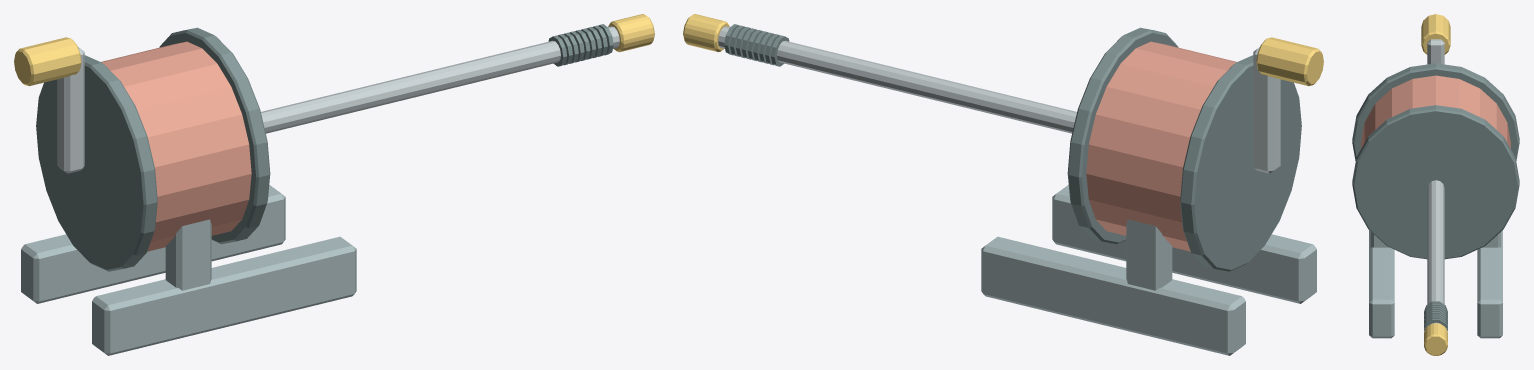
File: Tools-DrainAuger.fbx
3 renders of one model, left to right at view 1: azimuth 30°, elevation 25°; view 2: azimuth 150°, elevation 25°; view 3: azimuth 270°, elevation 25°, orthographic. The views are drawn at different scales.
Parts seen in each view (by area): view 1: Cable Drum, Spool Cap, Stand Runner, Stand Runner.001, Cable, Spool Cap.001, Crank Arm, Stand Upright, Crank Grip, Coil Rib Mesh, Auger Tip; view 2: Cable Drum, Spool Cap, Stand Runner.001, Stand Runner, Cable, Spool Cap.001, Crank Arm, Stand Upright.001, Crank Grip, Coil Rib Mesh, Auger Tip; view 3: Spool Cap.001, Cable Drum, Spool Cap, Stand Runner, Stand Runner.001, Cable, Crank Grip, Auger Tip, Coil Rib Mesh, Crank Arm, Stand Upright, Stand Upright.001.
Part boxes in pixels (bbox=[...]): Cable Drum: bbox=[101, 41, 251, 251]; Spool Cap: bbox=[36, 55, 157, 271]; Stand Runner: bbox=[92, 236, 356, 355]; Stand Runner.001: bbox=[21, 185, 285, 303]; Cable: bbox=[261, 26, 619, 133]; Spool Cap.001: bbox=[159, 27, 270, 244]; Crank Arm: bbox=[57, 47, 84, 173]; Stand Upright: bbox=[165, 219, 211, 290]; Crank Grip: bbox=[14, 37, 81, 86]; Coil Rib Mesh: bbox=[548, 24, 613, 66]; Auger Tip: bbox=[608, 14, 654, 52]; Cable Drum: bbox=[1086, 41, 1236, 251]; Spool Cap: bbox=[1180, 55, 1301, 271]; Stand Runner.001: bbox=[981, 236, 1245, 355]; Stand Runner: bbox=[1052, 185, 1316, 303]; Cable: bbox=[718, 26, 1076, 133]; Spool Cap.001: bbox=[1067, 27, 1178, 244]; Crank Arm: bbox=[1253, 47, 1280, 173]; Stand Upright.001: bbox=[1126, 219, 1172, 290]; Crank Grip: bbox=[1256, 37, 1323, 86]; Coil Rib Mesh: bbox=[724, 24, 789, 66]; Auger Tip: bbox=[683, 14, 729, 52]; Spool Cap.001: bbox=[1352, 105, 1519, 259]; Cable Drum: bbox=[1361, 75, 1510, 148]; Spool Cap: bbox=[1352, 63, 1519, 160]; Stand Runner: bbox=[1369, 230, 1394, 338]; Stand Runner.001: bbox=[1477, 230, 1502, 338]; Cable: bbox=[1427, 180, 1444, 323]; Crank Grip: bbox=[1421, 14, 1450, 54]; Auger Tip: bbox=[1424, 323, 1447, 355]; Coil Rib Mesh: bbox=[1424, 301, 1447, 330]; Crank Arm: bbox=[1427, 39, 1444, 64]; Stand Upright: bbox=[1370, 232, 1389, 247]; Stand Upright.001: bbox=[1482, 232, 1501, 247].
Size of the model in its own units: 0.967 by 0.4225 by 0.294.
